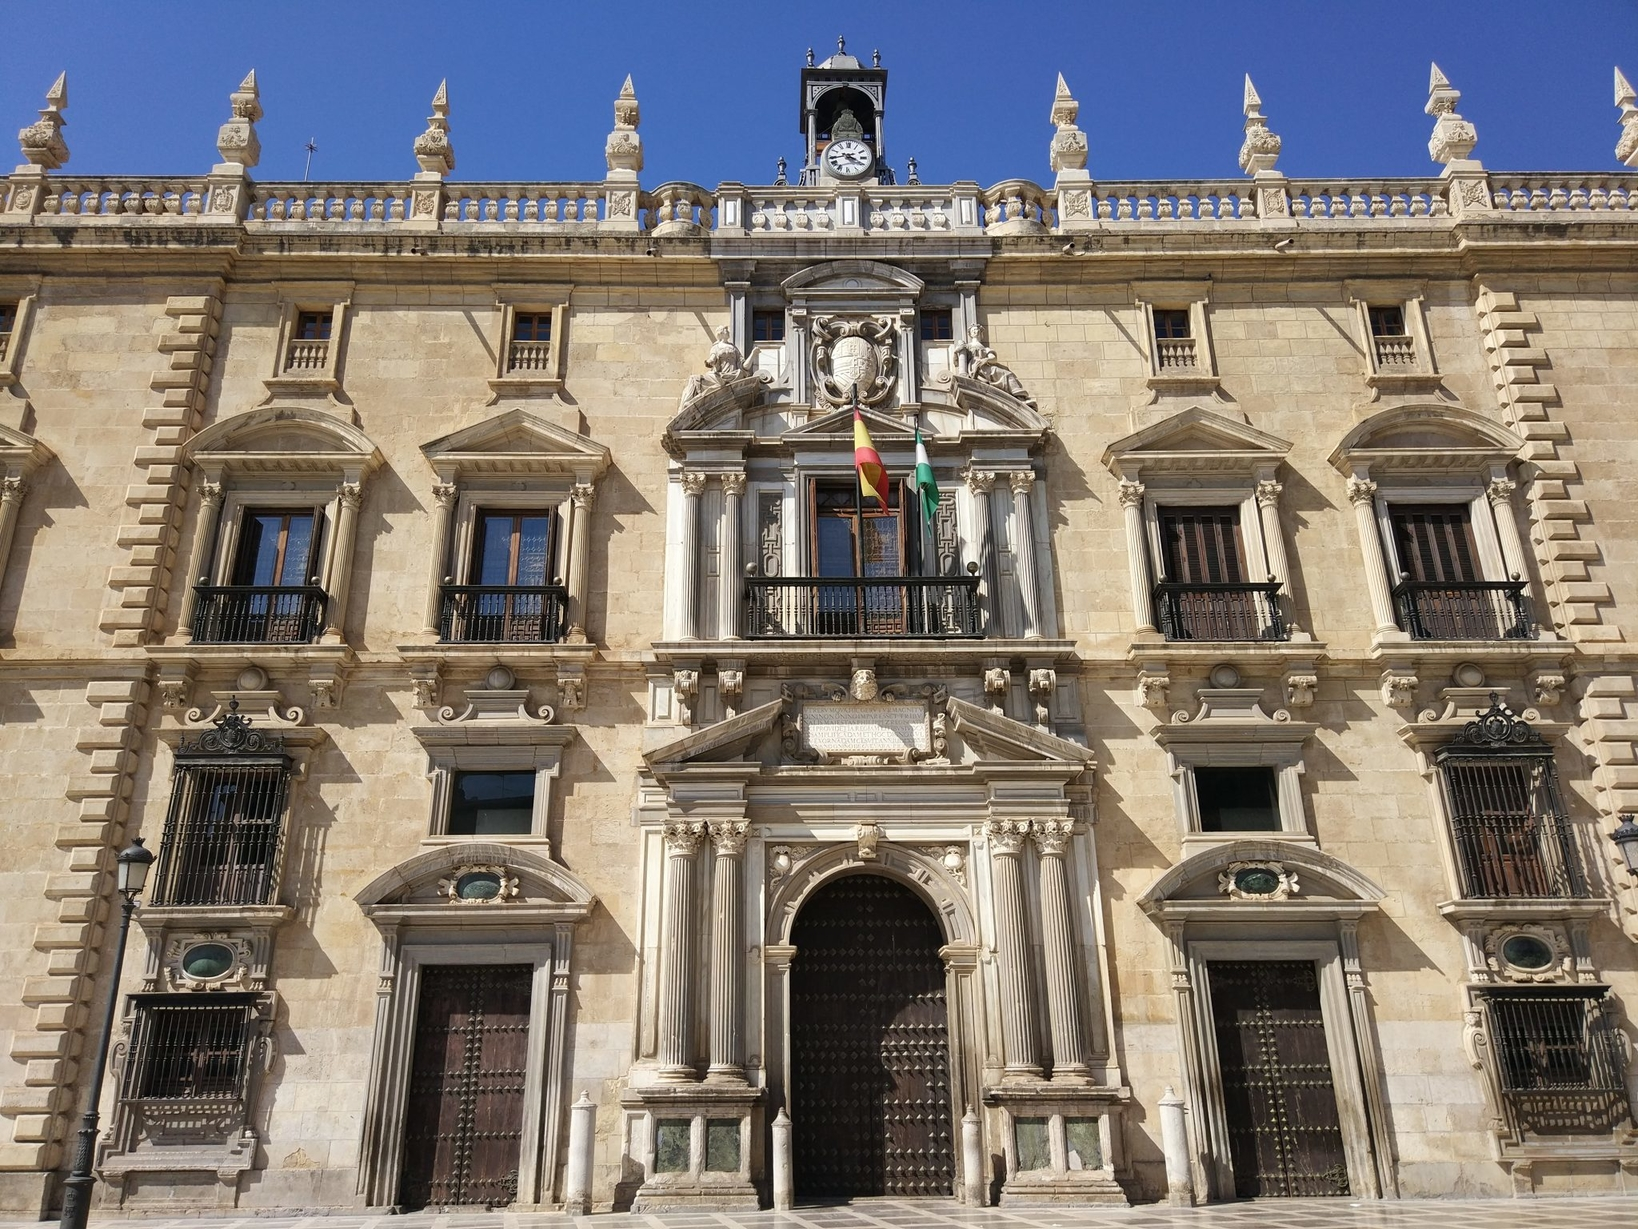arco-medio-punto: (762, 838, 985, 973)
fronton: (420, 407, 620, 483), (1100, 400, 1304, 471), (778, 401, 941, 448)
fronton-curvo: (1135, 833, 1400, 929), (352, 840, 614, 929), (173, 398, 389, 478), (1328, 405, 1537, 467), (780, 258, 931, 303)
fronton-partido: (631, 689, 1110, 789), (654, 373, 1056, 453)
vano-adintelado: (1160, 931, 1399, 1208), (359, 931, 574, 1217), (1345, 476, 1550, 651), (174, 482, 368, 653), (1113, 480, 1305, 649), (418, 485, 598, 653)
